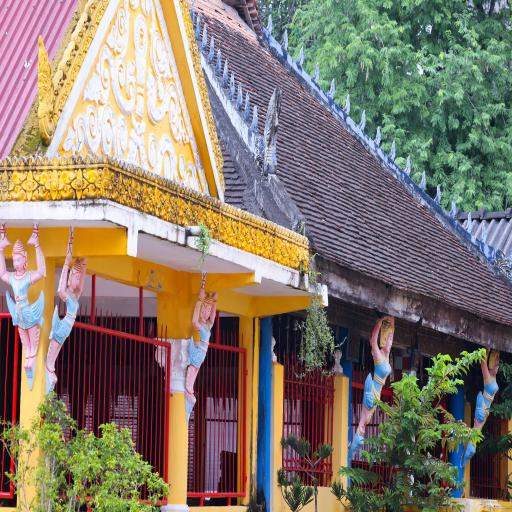ran: (36, 42, 54, 150)
than: (0, 225, 58, 368), (43, 252, 92, 372), (354, 320, 402, 434), (460, 346, 504, 466), (186, 278, 218, 404)
